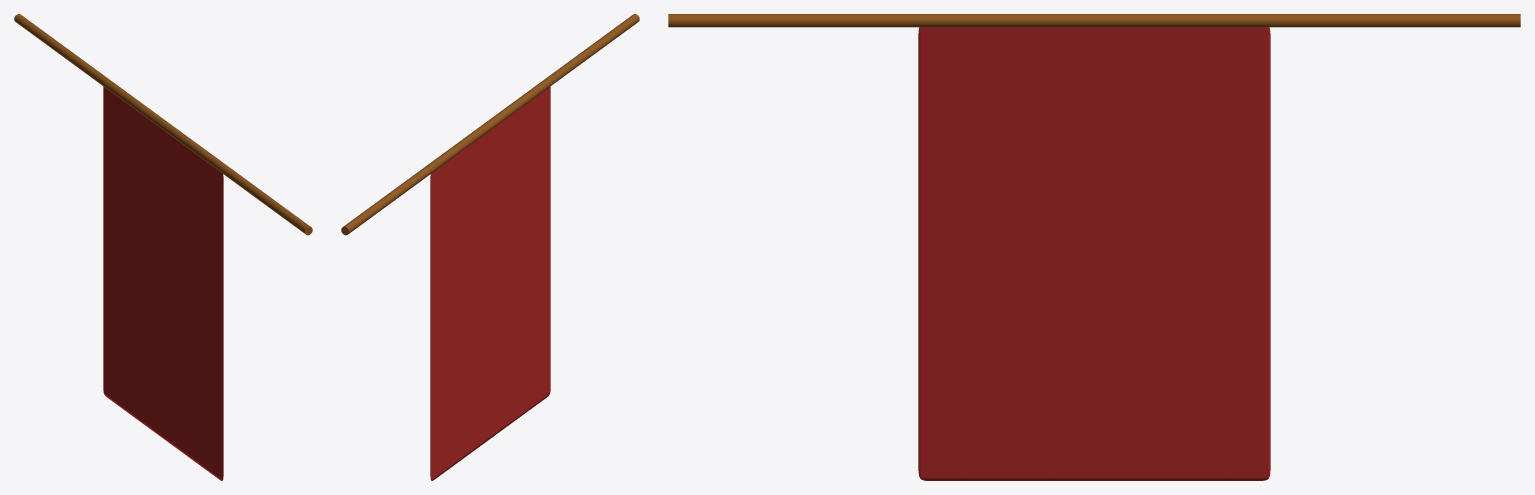
File: cortina larga.fbx
3 views of the same model, side by side, from view 1: azimuth 30°, elevation 25°; view 2: azimuth 150°, elevation 25°; view 3: azimuth 270°, elevation 25° (orthographic). The views are drawn at different scales.
Parts seen in each view (by area): view 1: Plane, Cylinder; view 2: Plane, Cylinder; view 3: Plane, Cylinder.
Part boxes in pixels (bbox=[...]): Plane: bbox=[103, 86, 223, 480]; Cylinder: bbox=[14, 14, 312, 235]; Plane: bbox=[430, 86, 550, 480]; Cylinder: bbox=[341, 14, 639, 235]; Plane: bbox=[918, 27, 1270, 480]; Cylinder: bbox=[668, 14, 1520, 27].
Bounding box in the file's own units: 10.66 × 408 × 675.
